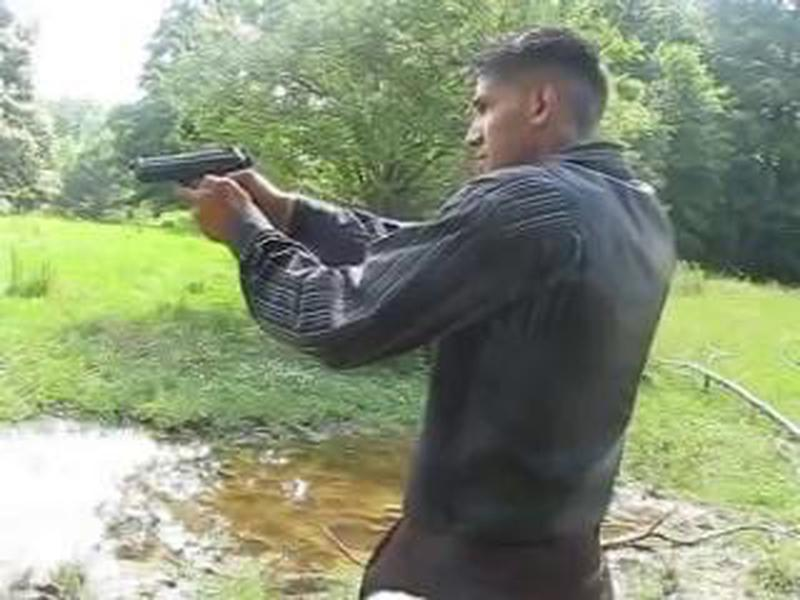Pistola: (127, 142, 267, 217)
